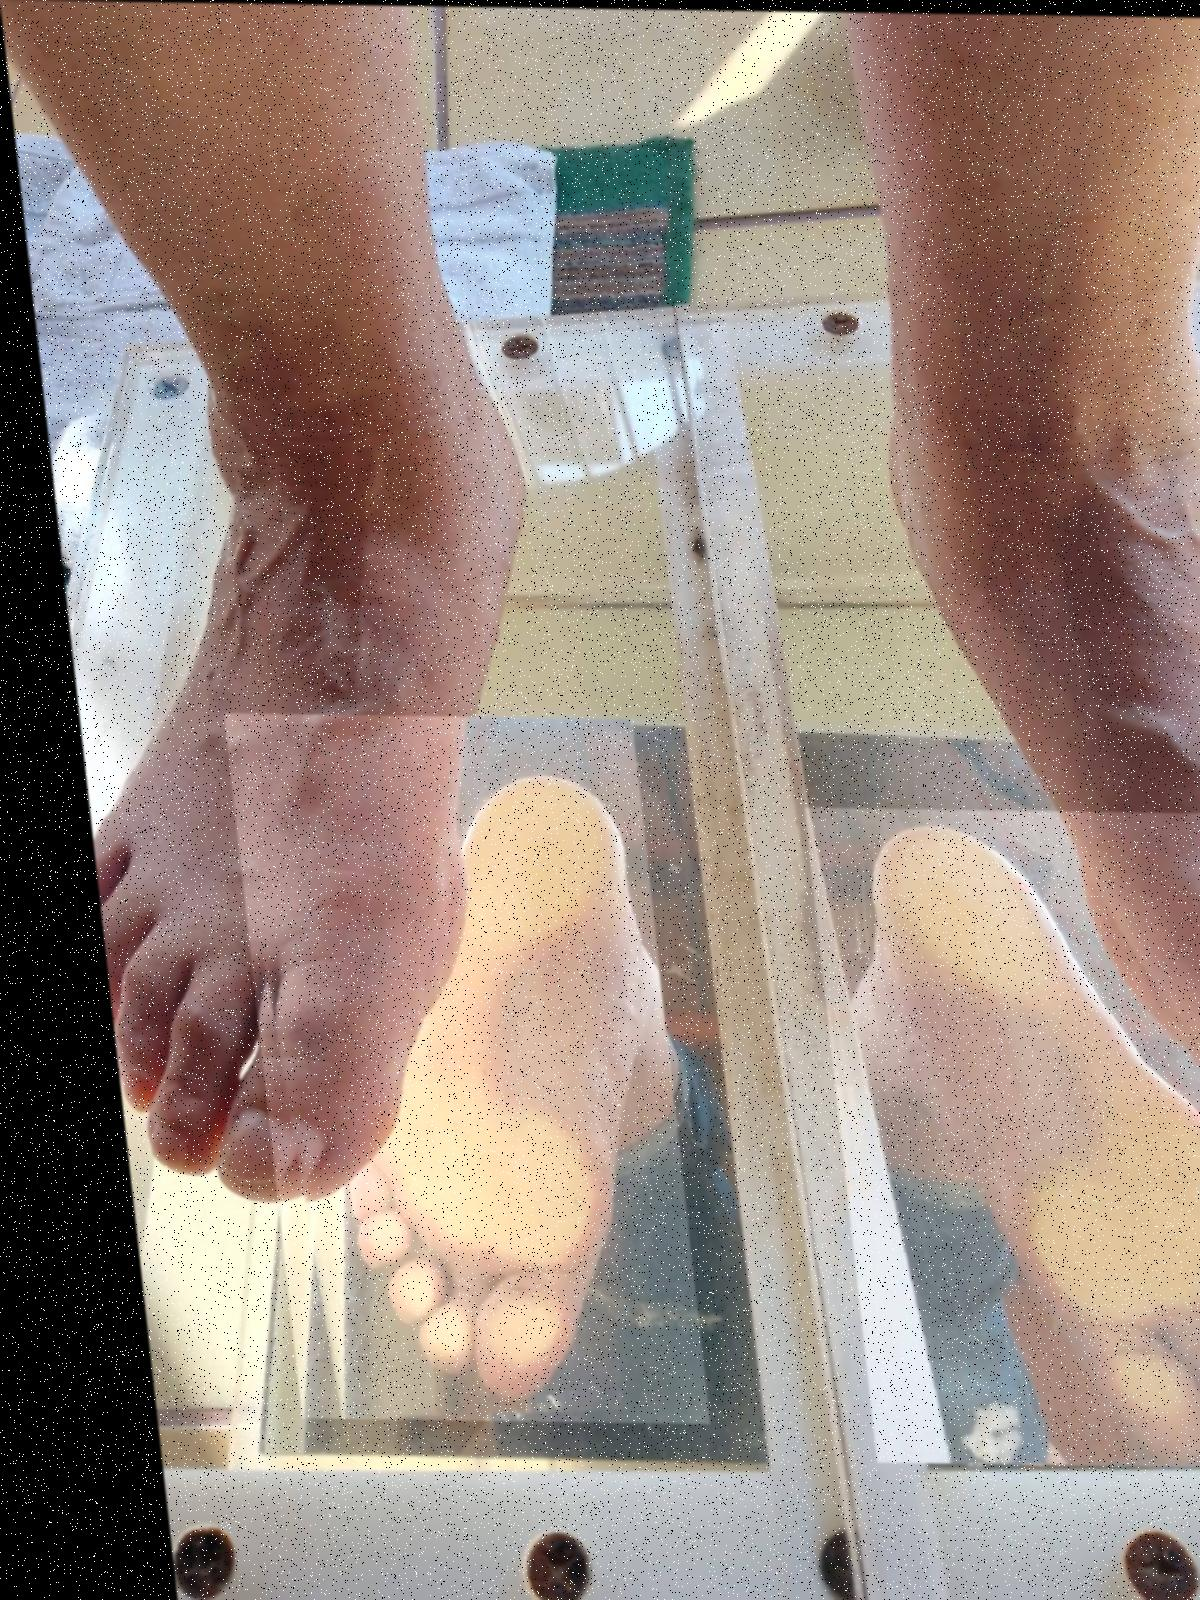9: (208, 713, 678, 1422)
Present: (785, 805, 1200, 1465)
